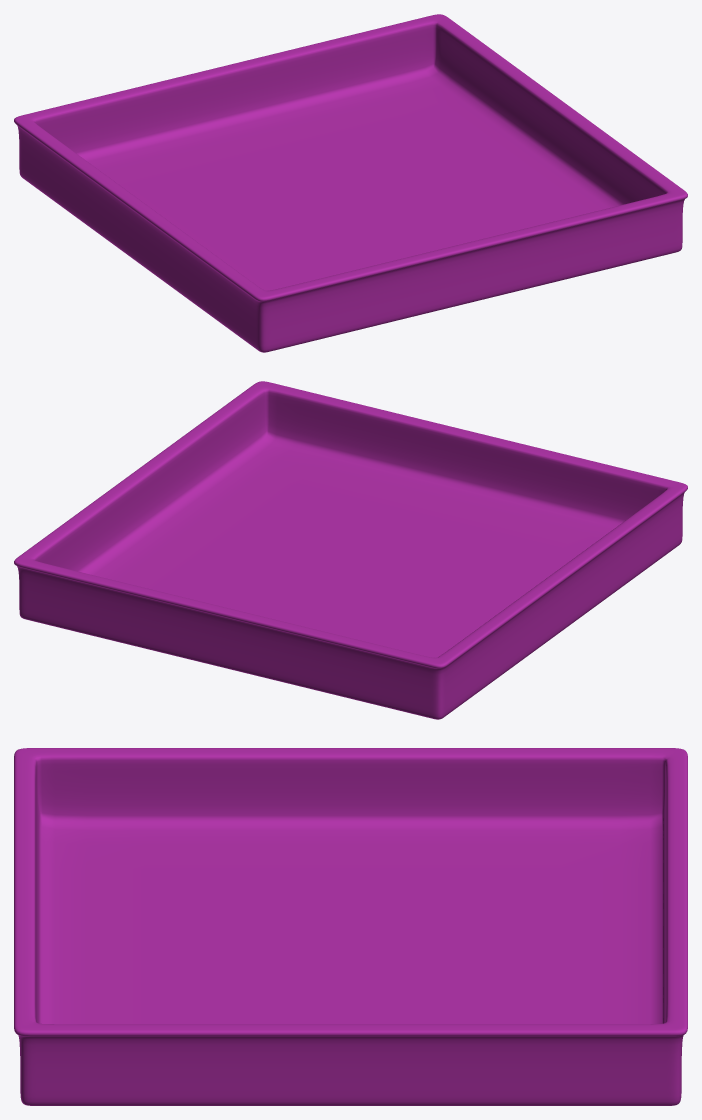
File: tray.fbx
3 views of the same model, one above another, from view 1: azimuth 30°, elevation 25°; view 2: azimuth 150°, elevation 25°; view 3: azimuth 270°, elevation 25° (orthographic). The views are drawn at different scales.
Visible parts, largest first — view 1: Tray_2786.Shape; view 2: Tray_2786.Shape; view 3: Tray_2786.Shape.
Boxes of the visible parts, left/top/right/bottom form: Tray_2786.Shape: left=14, top=14, right=687, bottom=352; Tray_2786.Shape: left=14, top=381, right=687, bottom=719; Tray_2786.Shape: left=14, top=748, right=687, bottom=1105.
Bounding box in the file's own units: 74.57 × 9.74 × 74.57.
